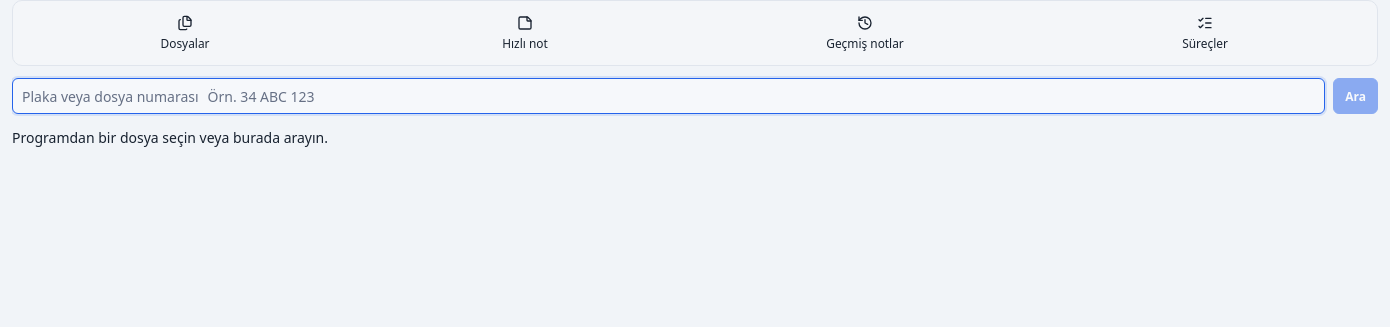
standalone Touch case workspace › ignores late search responses and removes stale clickable results while loading
Click the tab "Dosyalar" at (185, 33), box [17, 5, 353, 62]
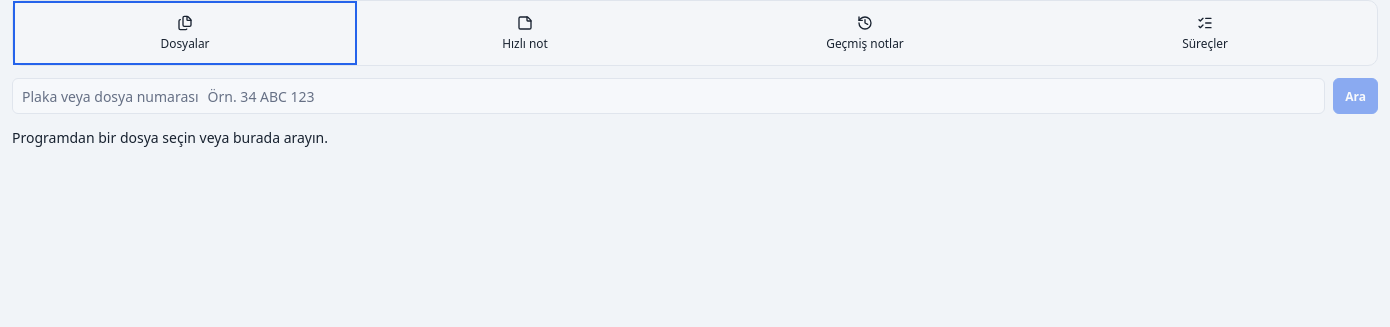
Type "OLD" into the field labelled "Plaka veya dosya numarası" at (760, 96), box [206, 86, 1315, 107]
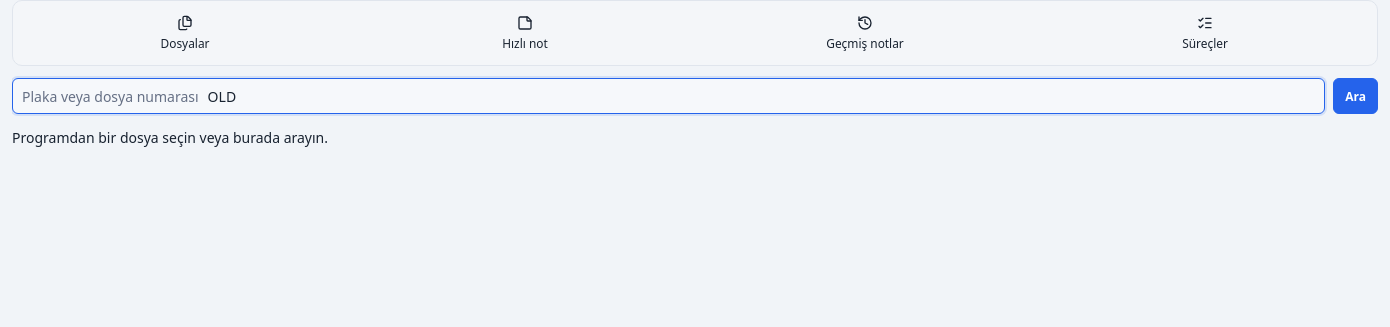
Click the button "Ara" at (1356, 96), box [1333, 78, 1378, 114]
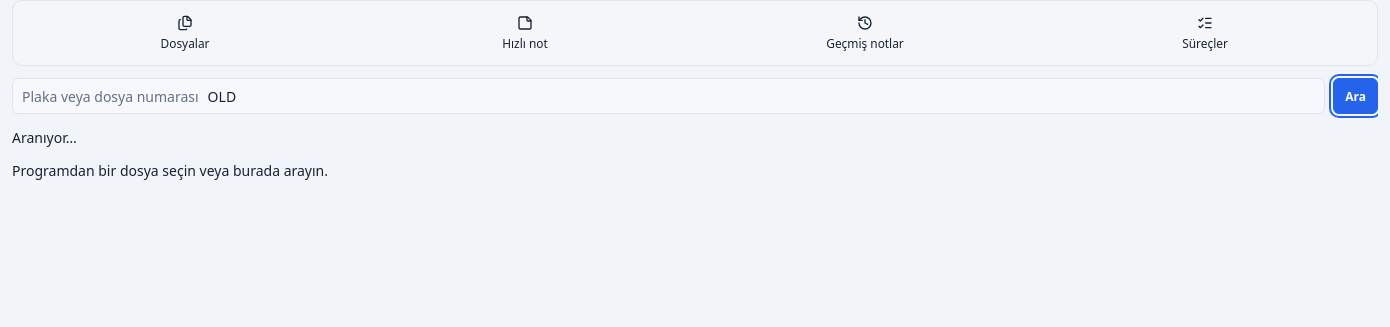
Click the tab "Dosyalar" at (185, 33), box [17, 5, 353, 62]
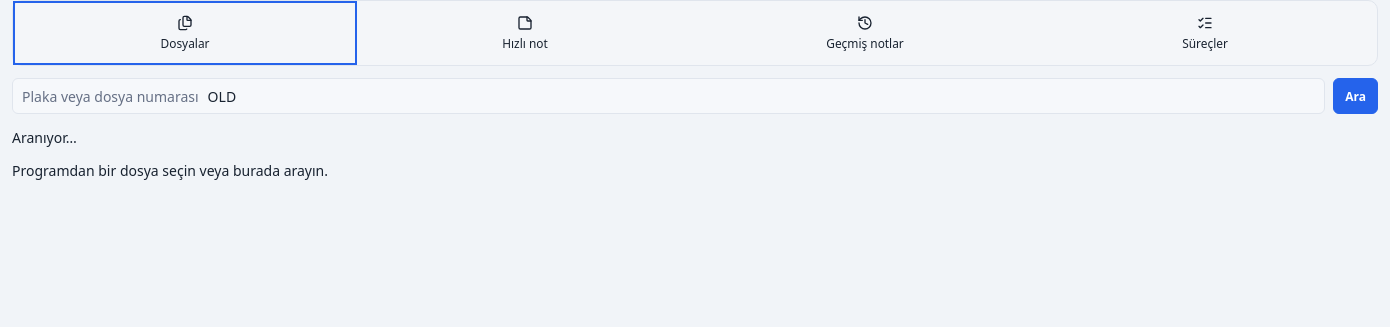
Replace the text in the field labelled "Plaka veya dosya numarası" with "NEW" at (760, 96), box [206, 86, 1315, 107]
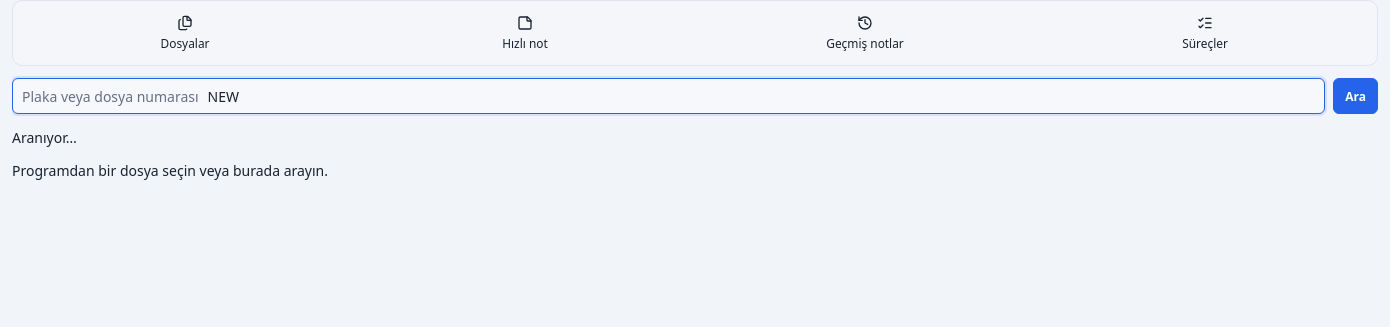
Click the button "Ara" at (1356, 96), box [1333, 78, 1378, 114]
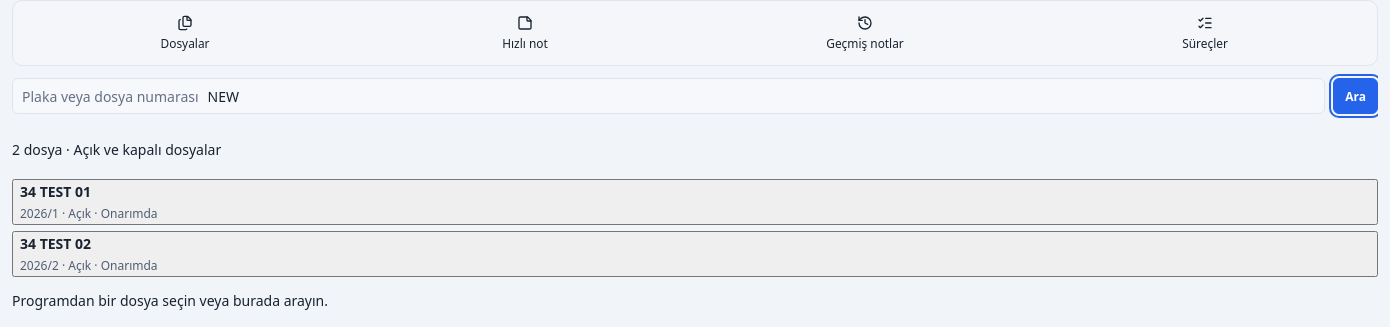
Result: the button "34 TEST 02 2026/2 · Açık · Onarımda" is shown at [12, 232, 1378, 278]
